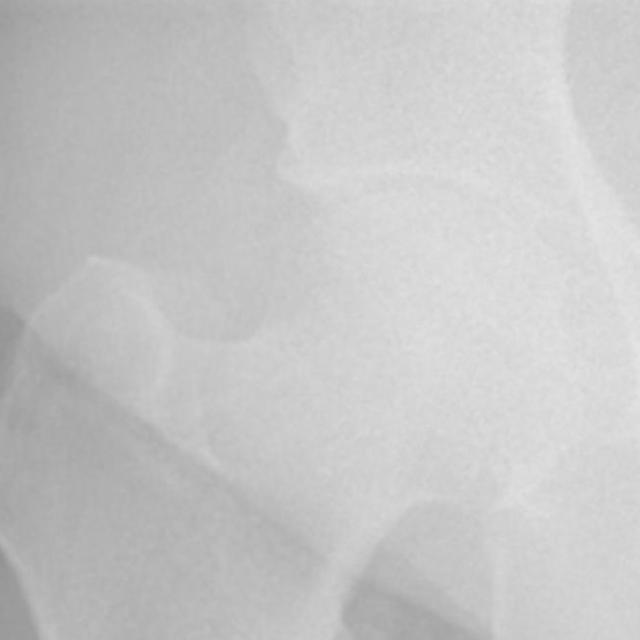Fitted_femural_head: (318, 191, 432, 318)
